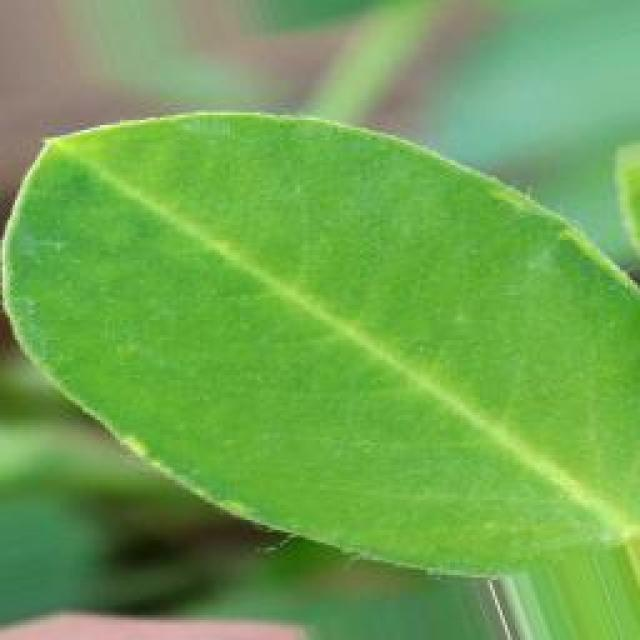Yellow_and_black_sigatoka: (3, 110, 640, 566)
